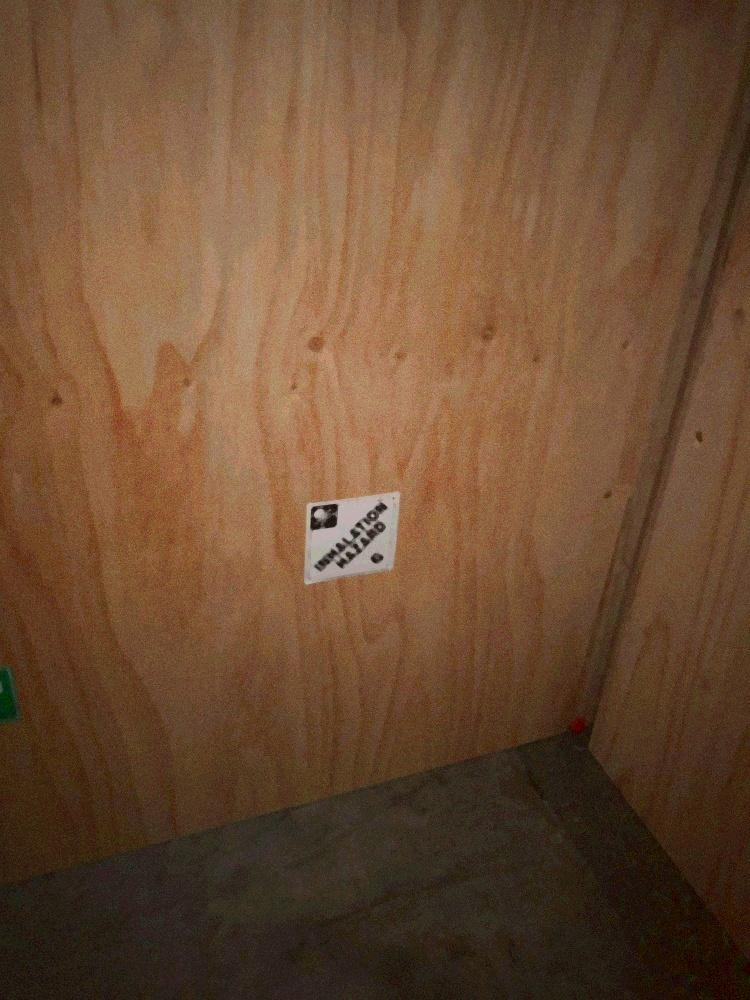poison: (303, 488, 400, 584)
